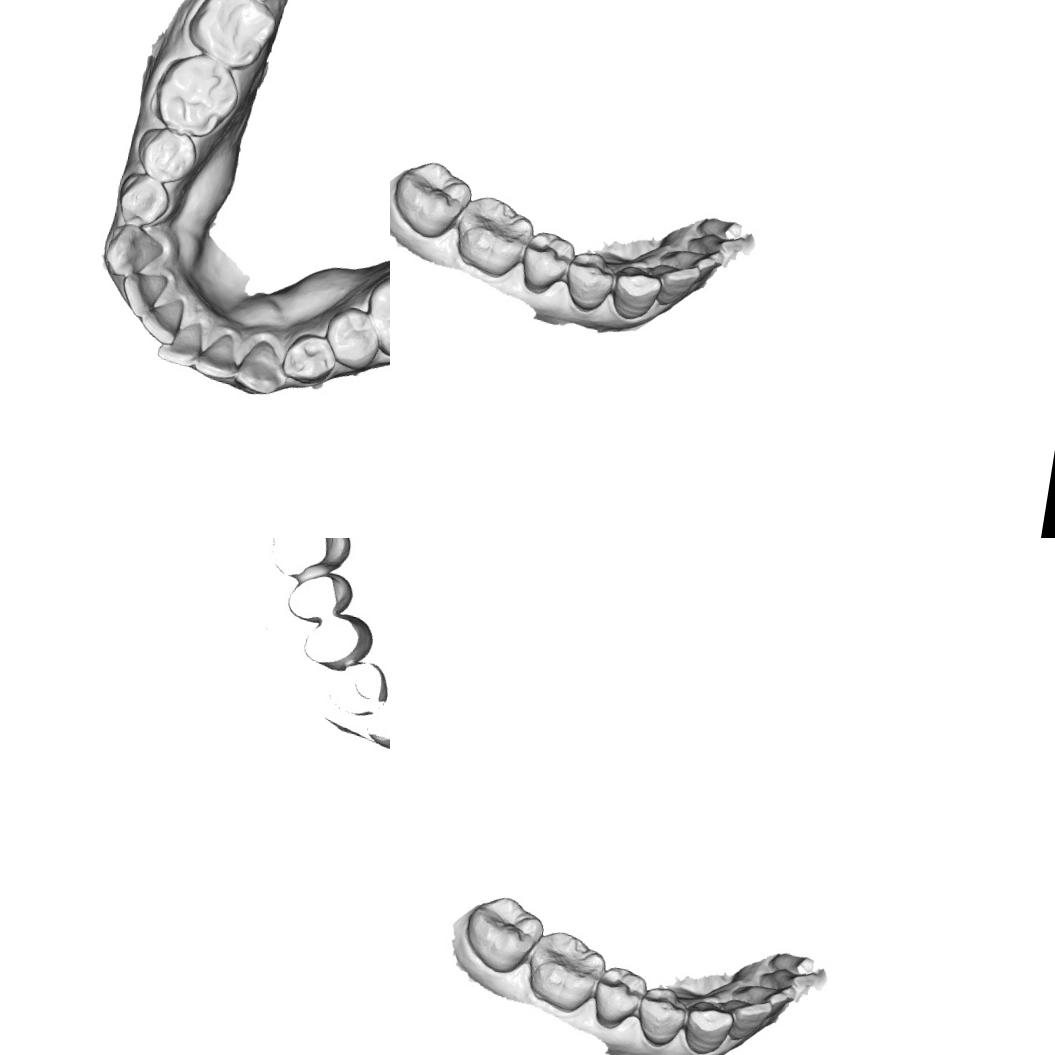canine: (99, 218, 167, 285), (231, 335, 290, 400), (606, 262, 664, 325), (678, 997, 736, 1055)
incisor: (190, 326, 244, 386), (152, 316, 210, 370), (117, 266, 170, 323), (136, 290, 188, 348), (718, 994, 774, 1046), (646, 260, 702, 310), (659, 242, 724, 278), (731, 977, 796, 1013), (682, 228, 748, 258), (754, 963, 820, 993)
molar: (148, 49, 248, 145), (458, 888, 548, 980), (449, 192, 538, 282), (521, 926, 610, 1016), (390, 153, 476, 245), (180, 0, 284, 75), (357, 264, 390, 368)
premolar: (318, 302, 385, 375), (130, 124, 203, 188), (560, 246, 620, 320), (632, 982, 692, 1054), (590, 964, 650, 1034), (518, 229, 577, 299), (114, 170, 176, 235), (277, 328, 343, 389)
